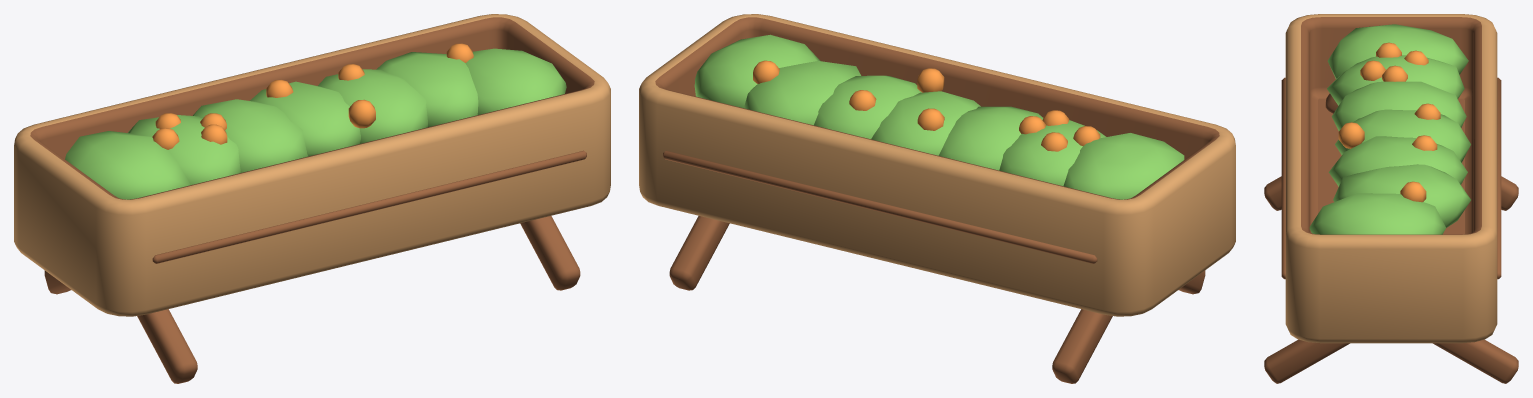
The model's file is prop_trough.glb.
3 views of the same model, side by side, from view 1: azimuth 30°, elevation 25°; view 2: azimuth 150°, elevation 25°; view 3: azimuth 270°, elevation 25° (orthographic). The views are drawn at different scales.
Visible parts, largest first — view 1: prop_trough, food; view 2: prop_trough, food; view 3: prop_trough, food.
Part boxes in pixels (bbox=[...]): prop_trough: bbox=[14, 14, 610, 383]; food: bbox=[65, 43, 566, 199]; prop_trough: bbox=[639, 14, 1235, 383]; food: bbox=[694, 34, 1184, 199]; prop_trough: bbox=[1264, 14, 1518, 383]; food: bbox=[1309, 24, 1470, 234].
Size of the model in its own units: 1.6 by 0.5958 by 0.7465.
